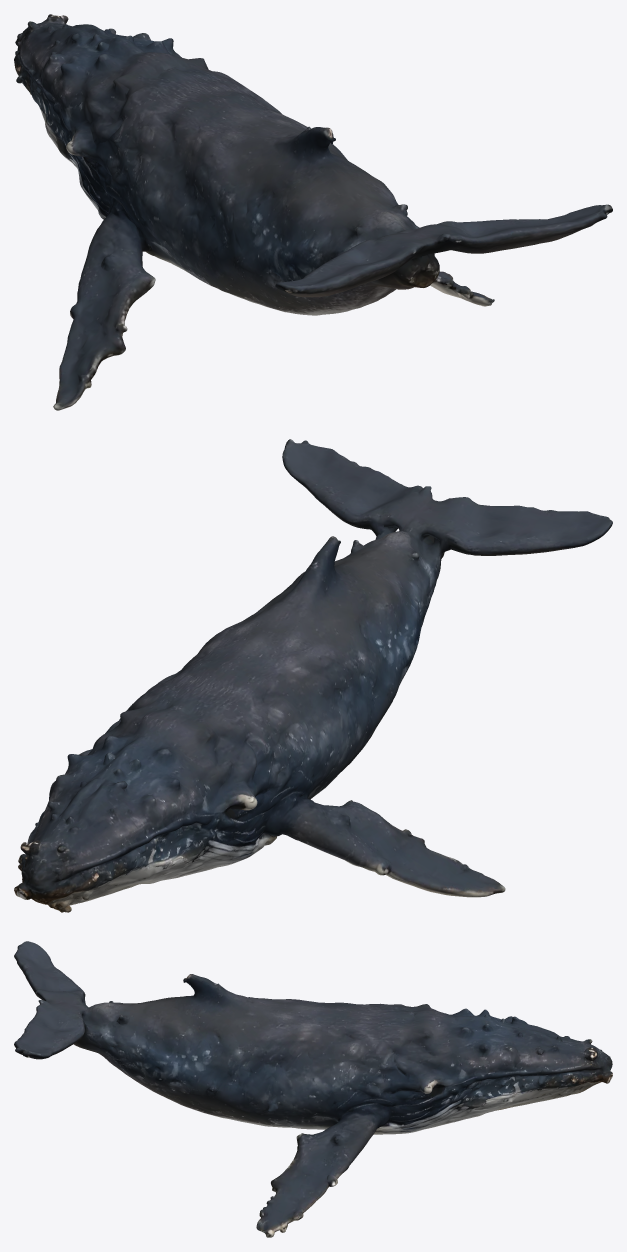
File: humpback.glb
3 views of the same model, one above another, from view 1: azimuth 30°, elevation 25°; view 2: azimuth 150°, elevation 25°; view 3: azimuth 270°, elevation 25° (orthographic). The views are drawn at different scales.
Visible parts, largest first — view 1: tripo_node_7b939ed9-be38-44e4-bff2-e8f0ac73e3c9; view 2: tripo_node_7b939ed9-be38-44e4-bff2-e8f0ac73e3c9; view 3: tripo_node_7b939ed9-be38-44e4-bff2-e8f0ac73e3c9.
Part boxes in pixels (x1=…): tripo_node_7b939ed9-be38-44e4-bff2-e8f0ac73e3c9: x1=14, y1=14, x2=612, y2=410; tripo_node_7b939ed9-be38-44e4-bff2-e8f0ac73e3c9: x1=14, y1=439, x2=612, y2=912; tripo_node_7b939ed9-be38-44e4-bff2-e8f0ac73e3c9: x1=14, y1=941, x2=612, y2=1237.
Bounding box in the file's own units: 0.5958 × 0.3503 × 0.9998.
1 material, 1 textured.
